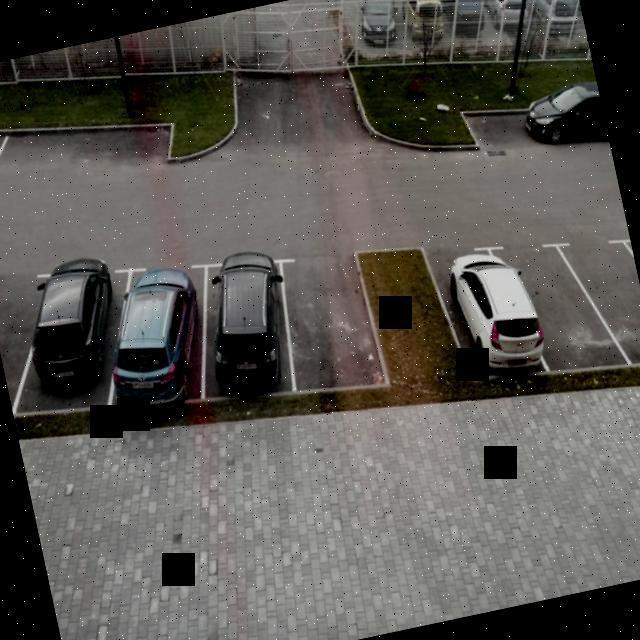space-empty: (480, 216, 629, 402), (265, 233, 393, 400), (10, 100, 167, 197), (558, 227, 640, 401), (0, 262, 51, 426)
space-occupied: (13, 254, 139, 434), (412, 230, 550, 394), (187, 247, 312, 419), (101, 251, 225, 423), (459, 71, 612, 182)
